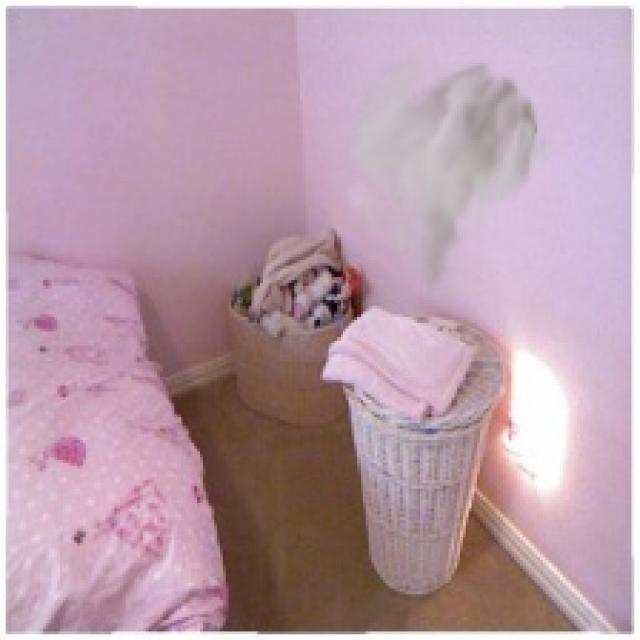smoke: (337, 40, 557, 297)
